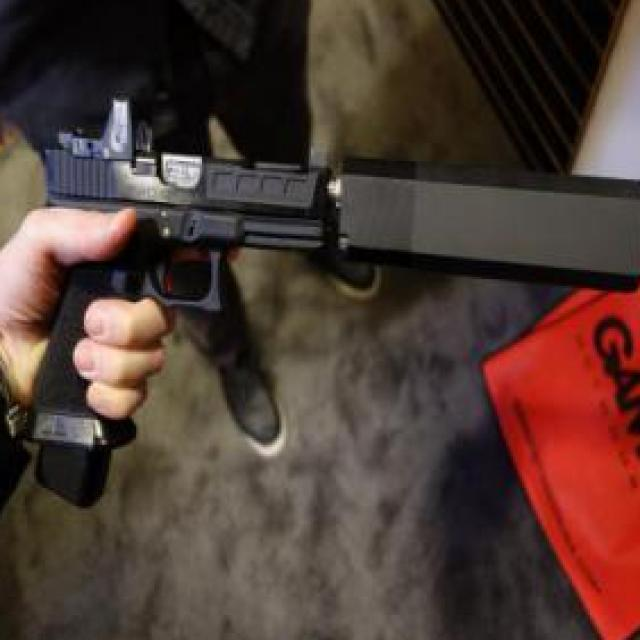pistol: (25, 93, 337, 489)
